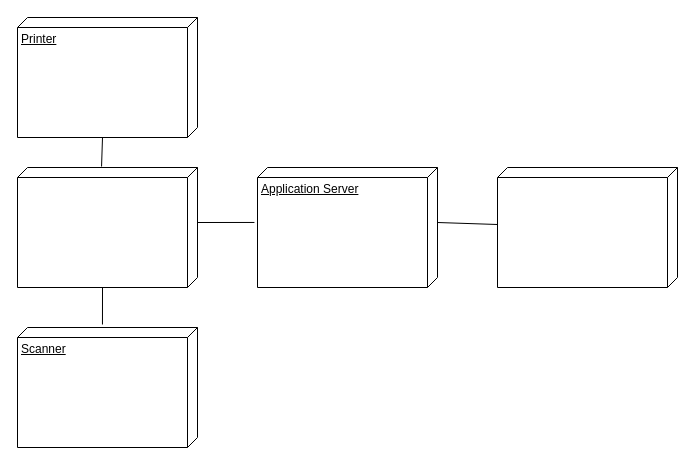
Image size: 695x465. Some labels were removed from this diagram. The shapes that lost their labels are listed below. From the top down, each one's centre as x and y in pixels, then its label:
(x=107, y=227): Terminal
(x=587, y=227): Database
